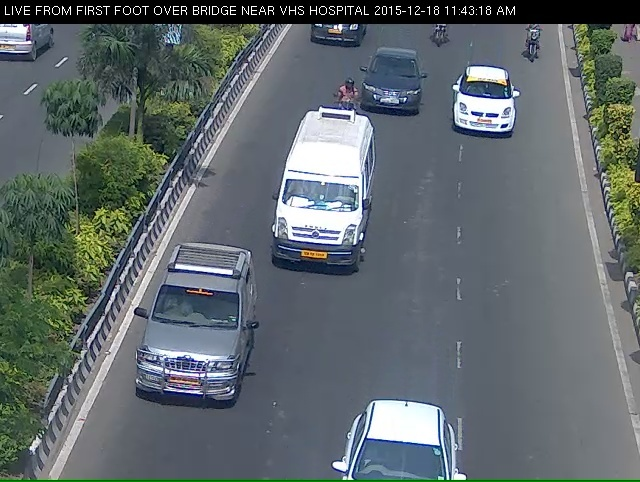Bus: (276, 117, 362, 291)
Car: (138, 259, 247, 436), (339, 420, 460, 479), (449, 68, 520, 148), (359, 58, 429, 123)
Person: (523, 23, 553, 80)
